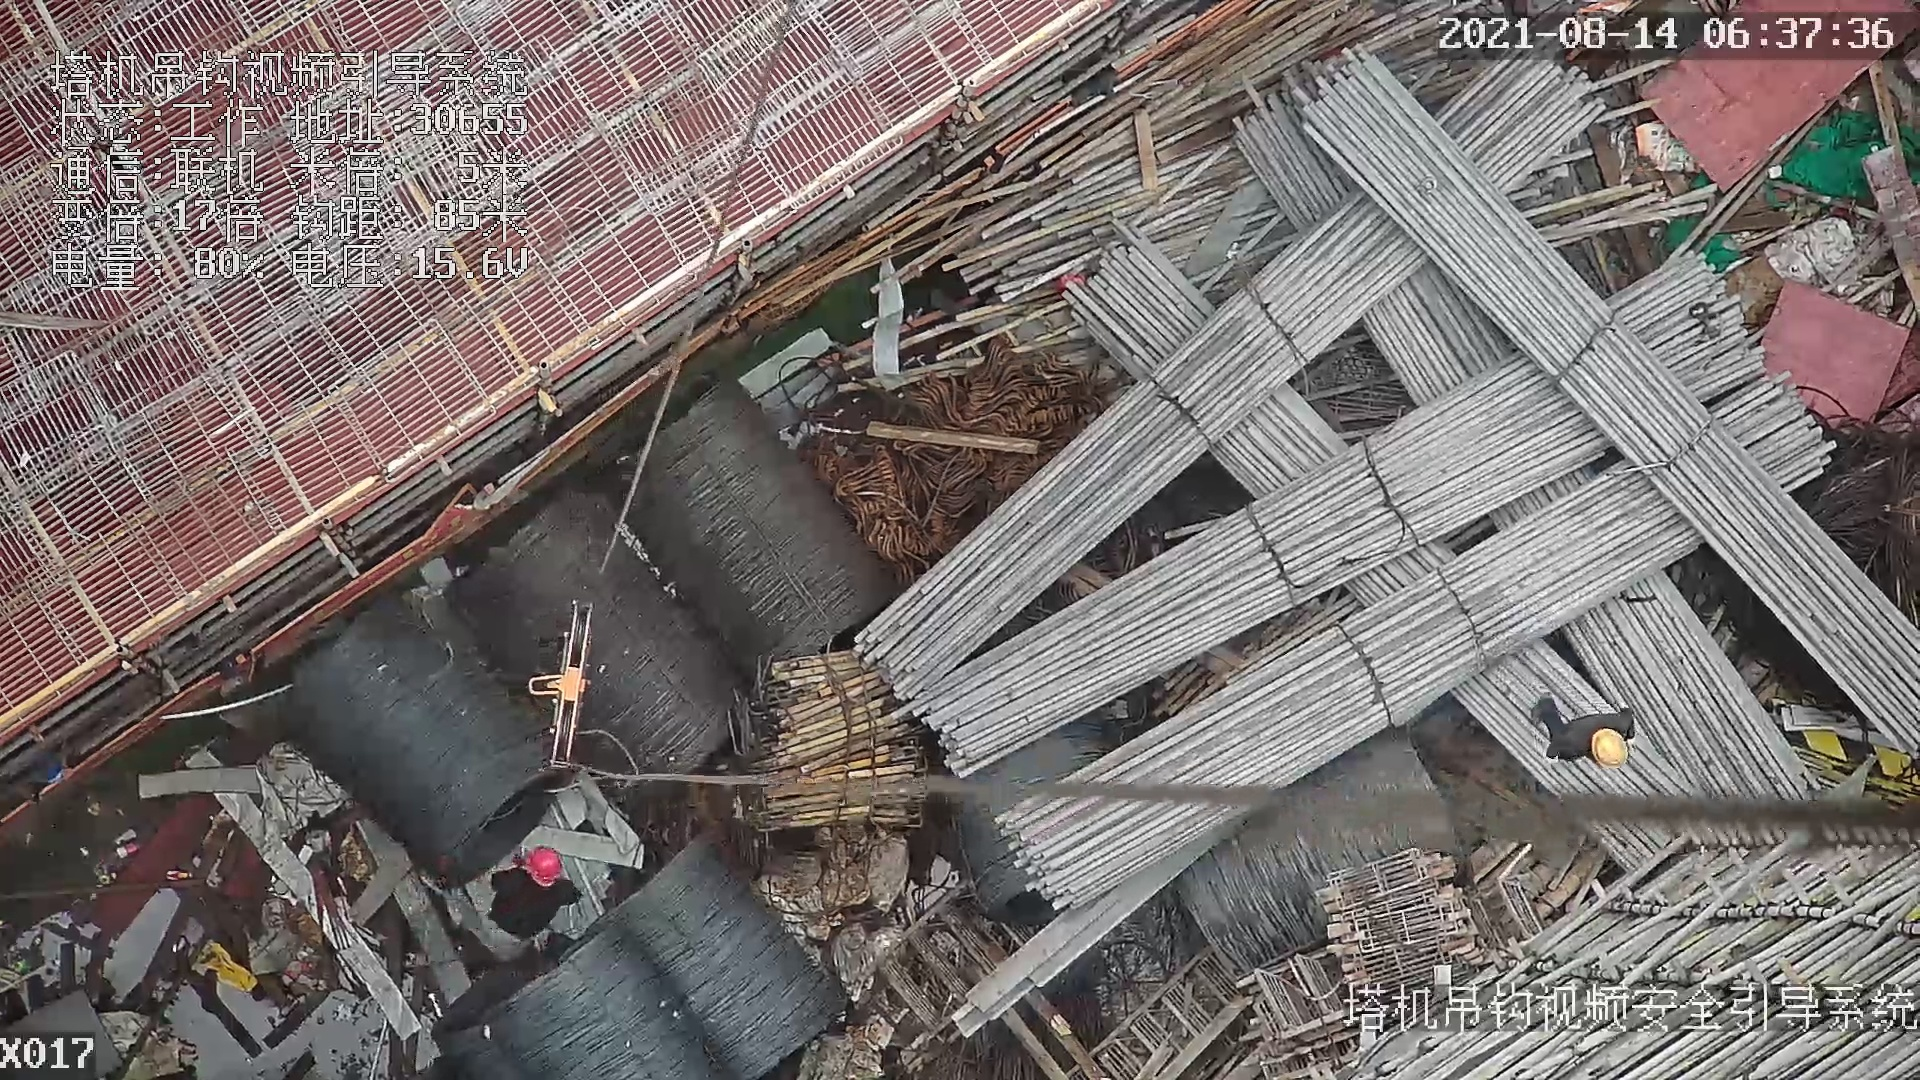helmet: (520, 841, 573, 890), (1588, 724, 1635, 768)
hook: (526, 595, 601, 772)
person: (1527, 689, 1644, 771), (490, 851, 586, 942)
scaffold: (951, 60, 1904, 863), (740, 649, 951, 853)
